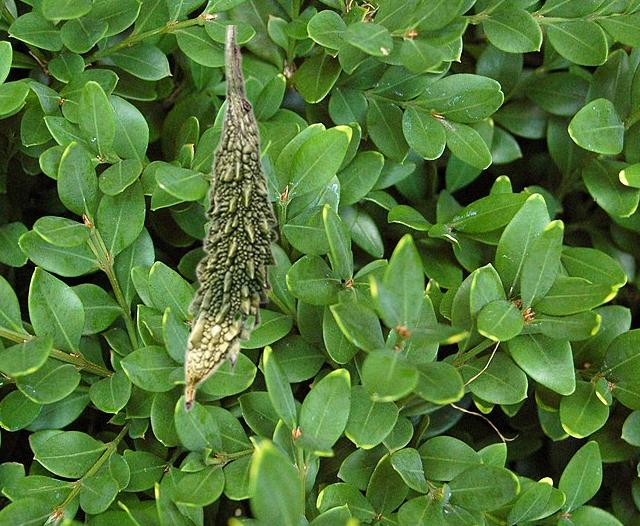ampalaya: (183, 25, 278, 412)
